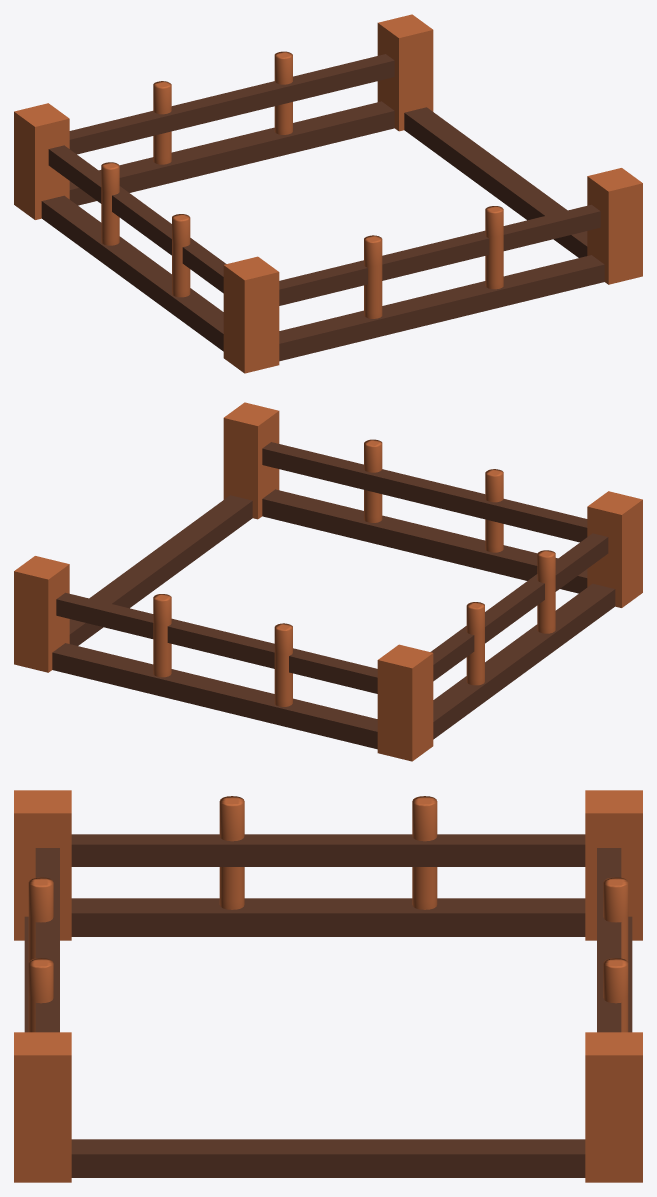
The model's file is pit_03.fbx.
3 renders of one model, top to bottom at view 1: azimuth 30°, elevation 25°; view 2: azimuth 150°, elevation 25°; view 3: azimuth 270°, elevation 25°, orthographic. The views are drawn at different scales.
Parts seen in each view (by area): view 1: Cube.144; view 2: Cube.144; view 3: Cube.144.
Part boxes in pixels (x1,y1,x2,y2): Cube.144: (14, 14, 642, 373); Cube.144: (14, 402, 642, 761); Cube.144: (14, 790, 642, 1182).
Size of the model in its own units: 898 by 201 by 901.
